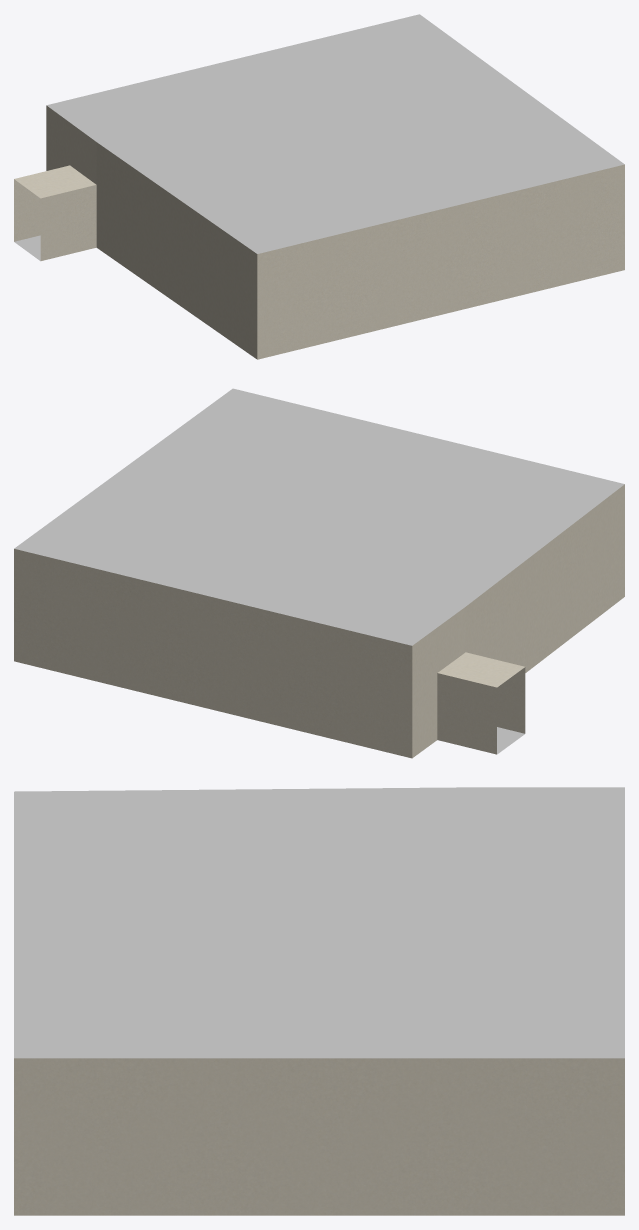
The model's file is Studio C Room.fbx.
The picture shows the model from 3 angles, top to bottom: view 1: azimuth 30°, elevation 25°; view 2: azimuth 150°, elevation 25°; view 3: azimuth 270°, elevation 25°; orthographic projection. The views are drawn at different scales.
Parts seen in each view (by area): view 1: NonBaked.001; view 2: NonBaked.001; view 3: NonBaked.001.
Part boxes in pixels (x1,y1,x2,y2): NonBaked.001: (14,14,624,359); NonBaked.001: (14,388,624,758); NonBaked.001: (14,787,624,1215).
Size of the model in its own units: 1416 by 333 by 1172.
